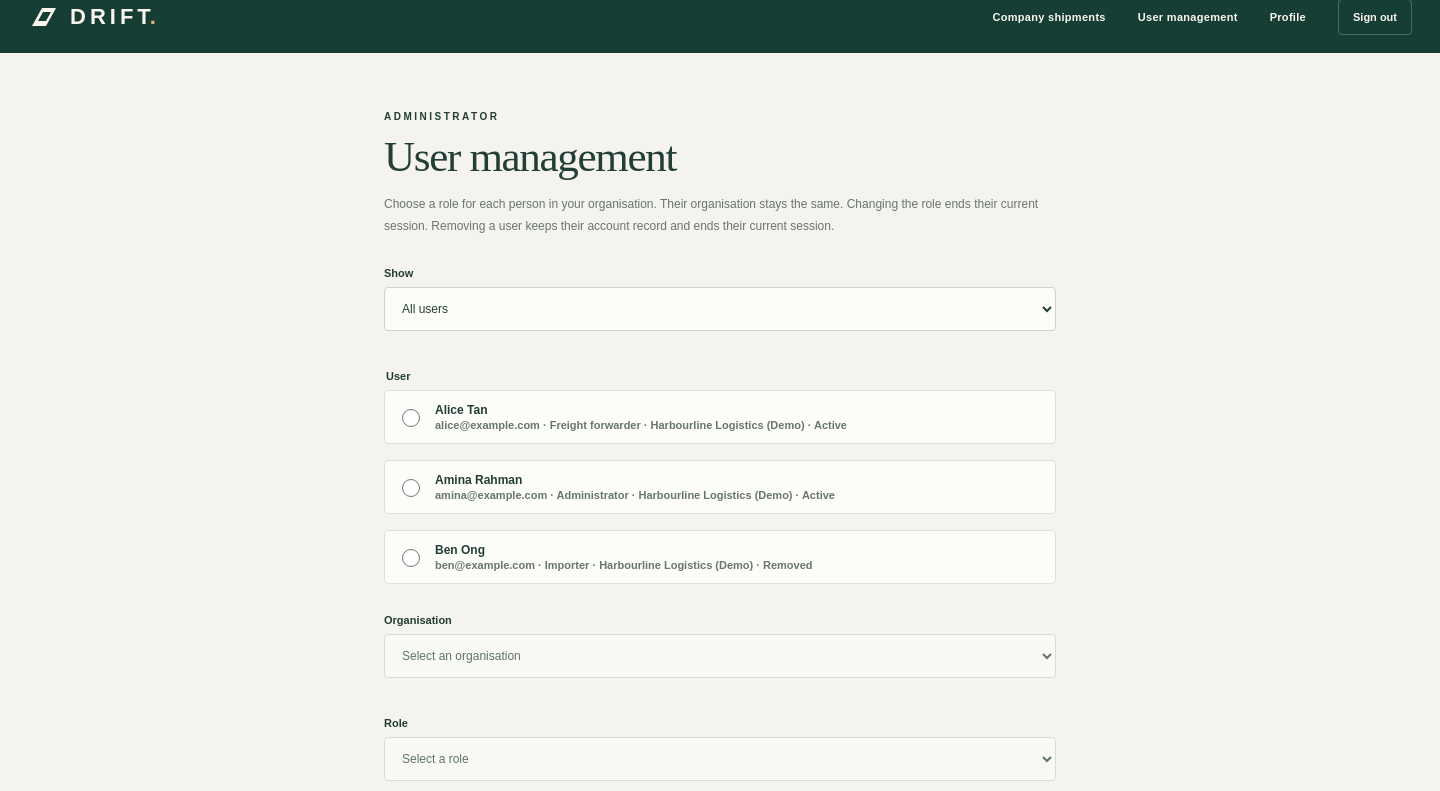
Scenario: account removal › does nothing when the removal is cancelled
Click the radio button labelled "Alice Tan". click: point(411, 418)
box: [402,409,420,427]
(page scrolled)
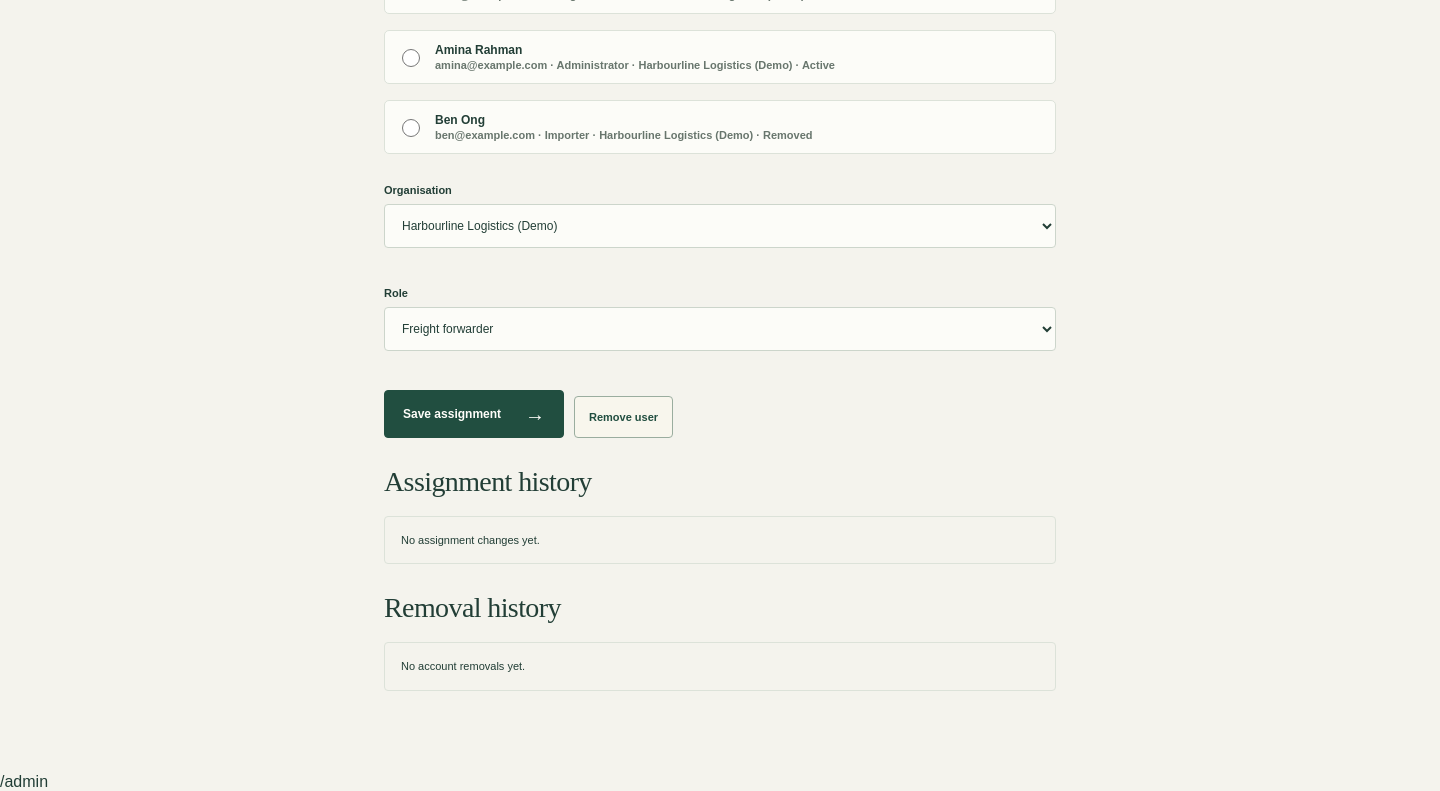
Click the button named "Remove Alice Tan". click: point(624, 417)
box: [574,396,673,438]
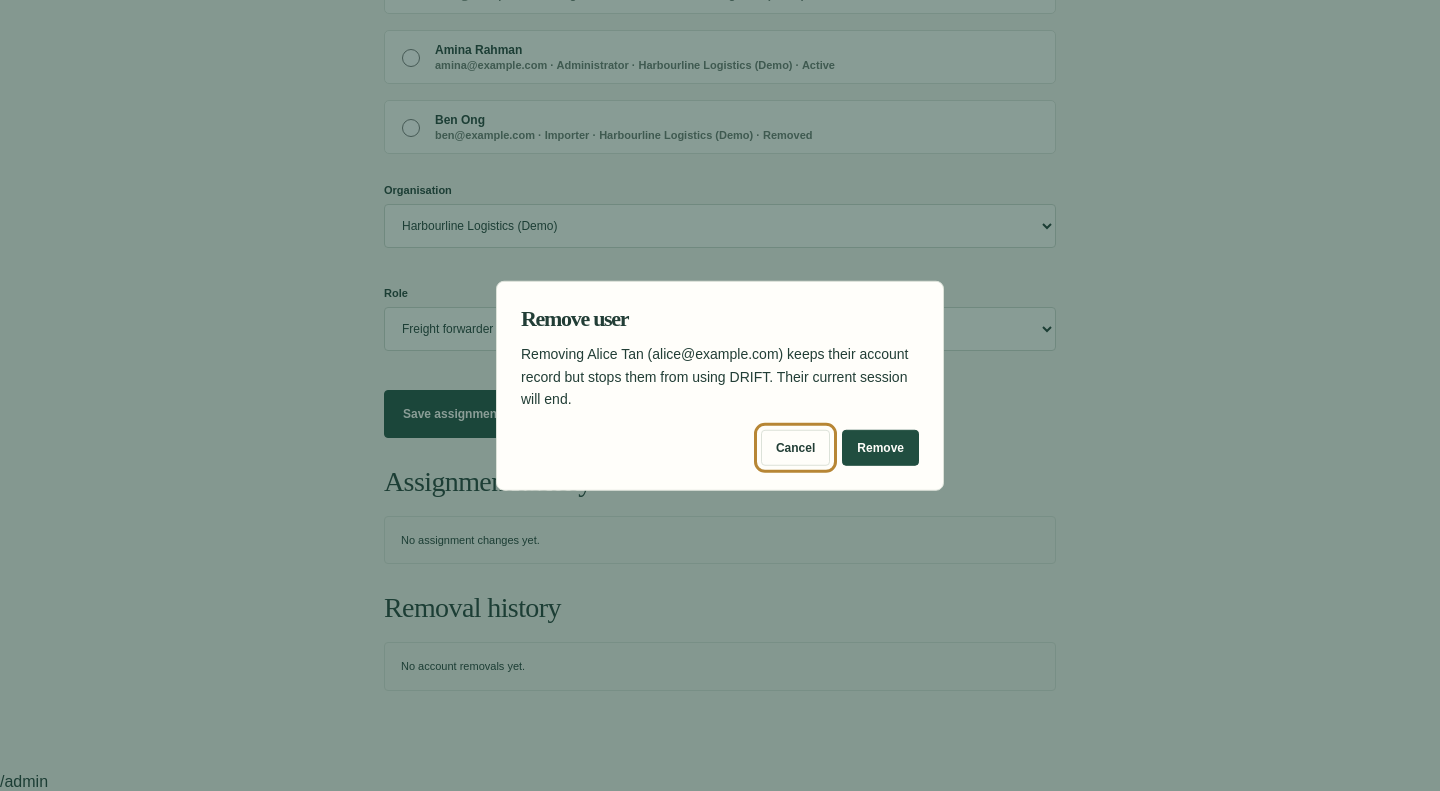
Click the button "Cancel". click: point(796, 448)
box: [761,430,830,466]
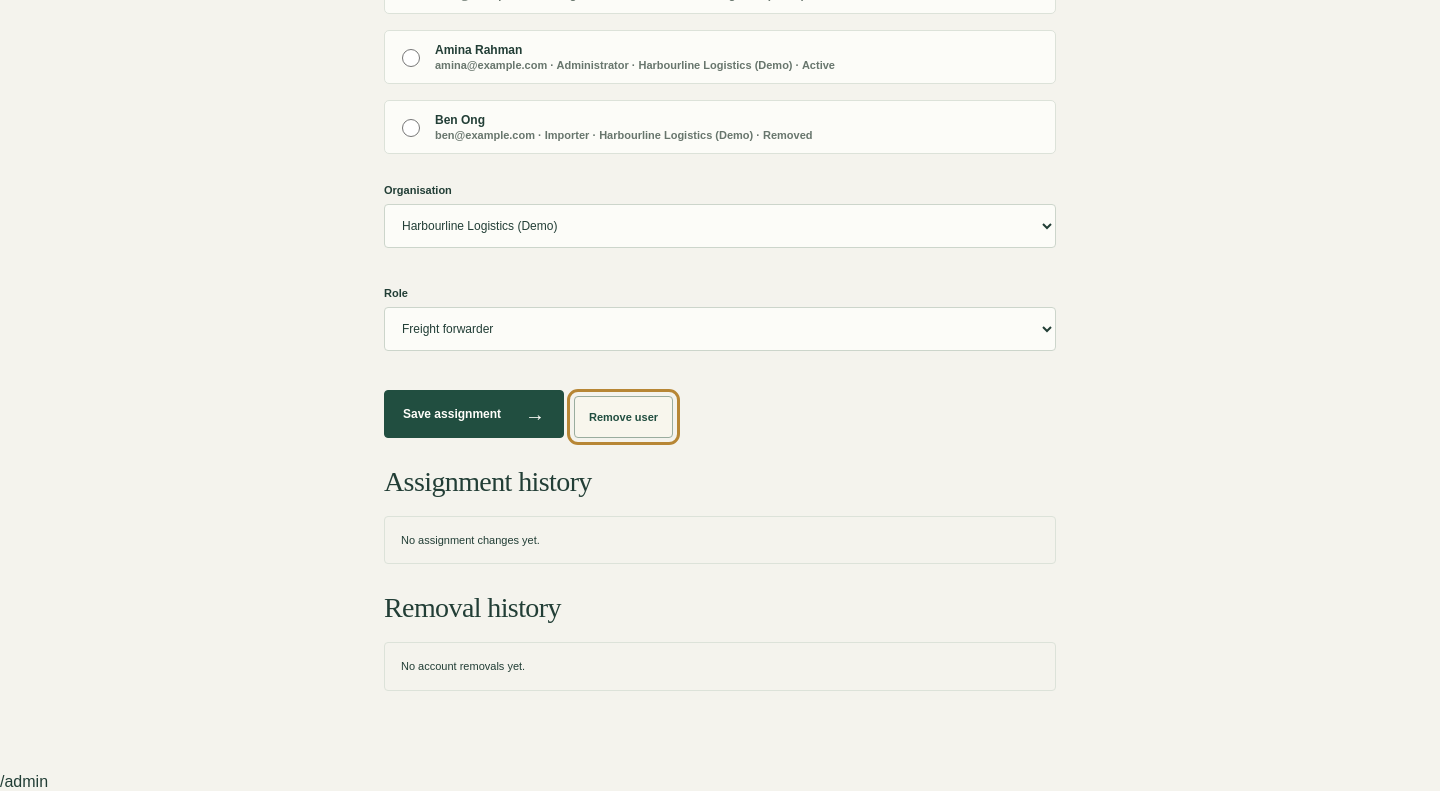
Expected: the dialog is gone
